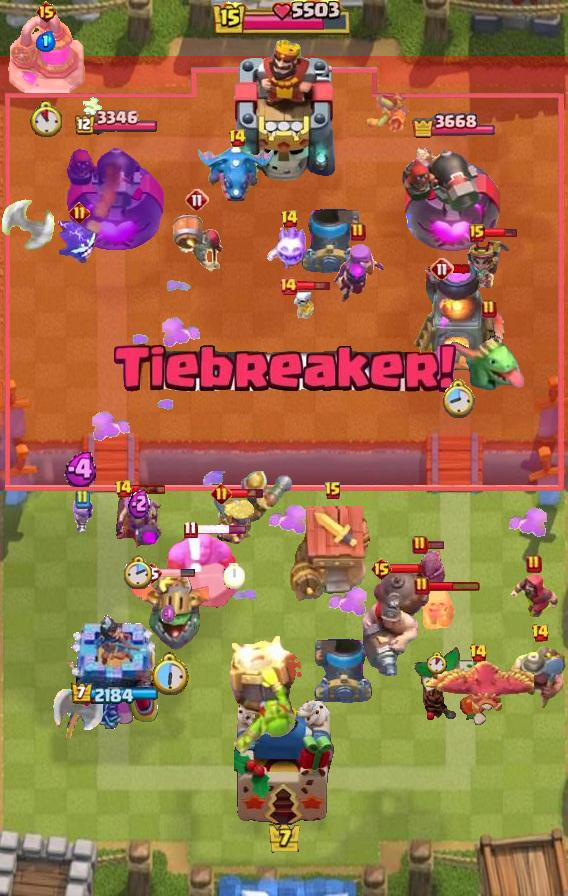axe: (0, 189, 56, 251), (52, 689, 104, 741)
bar: (428, 580, 481, 592), (195, 524, 248, 535), (482, 226, 518, 239), (296, 279, 331, 292), (230, 487, 265, 499), (131, 484, 166, 495), (390, 563, 424, 574), (160, 568, 196, 578), (453, 263, 472, 275), (426, 540, 445, 550)
bar-level: (430, 257, 454, 281), (185, 188, 209, 212), (370, 557, 393, 581), (35, 0, 58, 24), (140, 561, 162, 585), (211, 483, 232, 504), (69, 202, 90, 223), (278, 276, 298, 296), (469, 643, 488, 663), (531, 623, 550, 643), (114, 479, 133, 499), (280, 209, 299, 229), (228, 128, 247, 148), (324, 481, 342, 501), (414, 576, 430, 596), (526, 554, 542, 574), (412, 535, 428, 555), (74, 489, 90, 509), (481, 299, 497, 319), (350, 222, 366, 242), (469, 224, 485, 242), (183, 520, 198, 539)
barbarian-evolution: (214, 495, 254, 544)
cannoneer-tower: (402, 136, 504, 256), (64, 138, 165, 256)
clock: (149, 652, 189, 696), (440, 377, 475, 418), (30, 101, 62, 137), (124, 555, 154, 591), (223, 563, 245, 589), (427, 652, 447, 674)
electro-dragon: (198, 143, 276, 205)
electro-spirit: (58, 221, 100, 267)
elixir: (64, 452, 101, 487), (128, 488, 150, 519), (36, 31, 56, 52), (161, 604, 177, 624)
heal-spirit: (418, 582, 456, 630)
ice-spirit-evolution: (265, 223, 313, 271)
king-tower: (228, 35, 340, 181), (234, 700, 334, 826)
king-tower-bar: (213, 0, 355, 38)
little-prince: (461, 235, 516, 297)
miner: (506, 643, 568, 713)
mini-pekka: (404, 546, 456, 598)
mortar: (314, 639, 374, 703), (300, 209, 360, 273)
mother-witch: (331, 242, 385, 304), (114, 486, 164, 548)
musketeer: (239, 471, 293, 523)
queen-tower: (66, 614, 163, 731)
skeleton: (289, 288, 317, 320)
skeleton-evolution: (67, 497, 98, 533)
spear-goblin: (362, 91, 410, 133)
tower-bar: (412, 110, 495, 142), (72, 110, 157, 137), (70, 683, 158, 706)
wall-breaker: (170, 211, 224, 275)
wizard: (508, 571, 560, 621)
